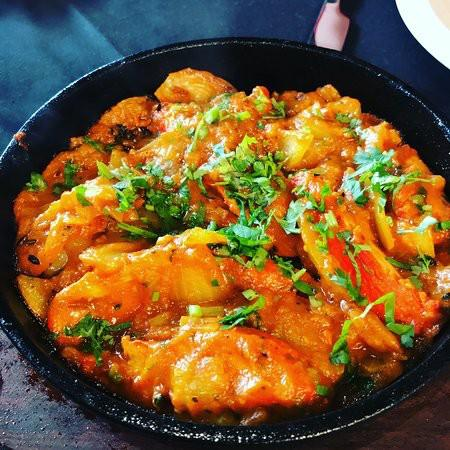AlooGobi: (15, 67, 450, 424)
